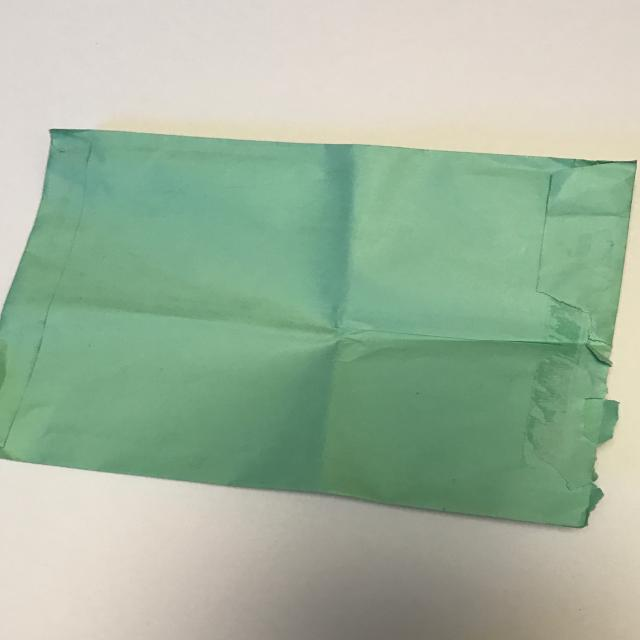Paper: (0, 118, 640, 556)
